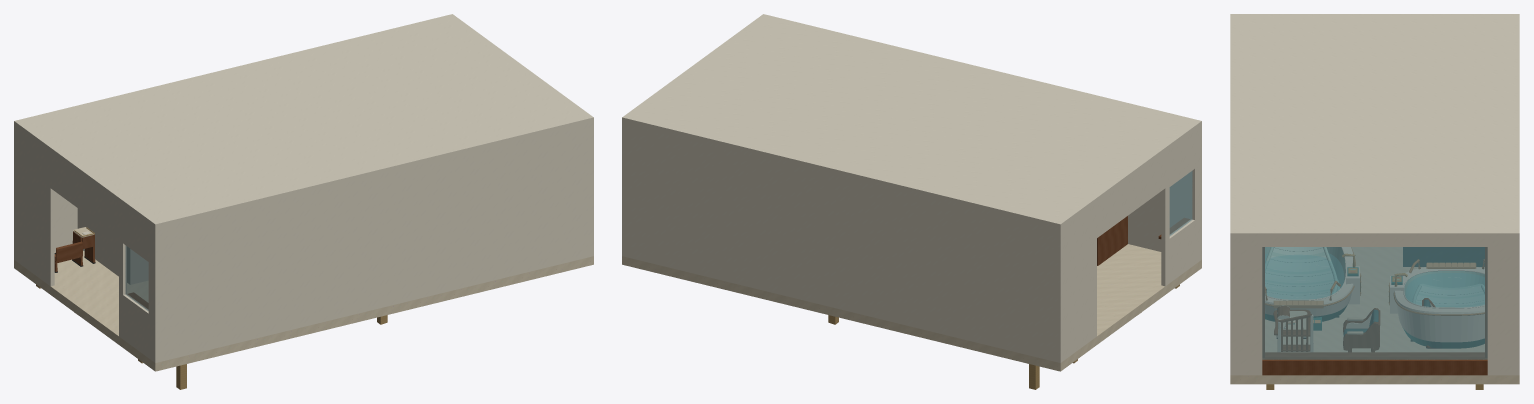
Rendered from QuietGroveBank_577_r001.glb.
The picture shows the model from 3 angles, left to right: view 1: azimuth 30°, elevation 25°; view 2: azimuth 150°, elevation 25°; view 3: azimuth 270°, elevation 25°; orthographic projection. The views are drawn at different scales.
Parts seen in each view (by area): view 1: QG577_Ceiling, QG577_NorthSide, QG577_RoomFloor, QG577_EntryShoulderSouth, QG577_EntryHeader, QG577_StreetWindowLower, QG577_WashEntrySide, QG577_SouthSide, QG577_StreetWindowUpper, QG577_ScreenedStreetGlass, QGB577_CourtSouthPier; view 2: QG577_Ceiling, QG577_SouthSide, QG577_RoomFloor, QG577_EntryShoulderSouth, QG577_NorthSide, QG577_EntryHeader, QG577_StreetWindowLower, QG577_StreetWindowUpper, QG577_ScreenedStreetGlass, QG577_EntryPrivacyDogleg; view 3: QG577_Ceiling, QGB577_PrivateCourtGlass, QG577_RoomFloor, QG577_QG577_ReservedRestSupport_02__Hollow continuous basin , QGB577_CourtNorthPier, QGB577_CourtSouthPier, QGB577_CourtSill, QG577_QG577_ReservedRestSupport_01__Contoured broad immersed, QGB577_CourtHeader, QG577_QG577_ReservedRestSupport_01__Hollow continuous basin , QG577_PositiveWetPrivacyBlade, QGB577_DeepReveal_0.34 (+7 smaller).
Part boxes in pixels (x1,y1,x2,y2): QG577_Ceiling: [14, 14, 593, 229]; QG577_NorthSide: [153, 123, 593, 362]; QG577_RoomFloor: [14, 250, 593, 371]; QG577_EntryShoulderSouth: [16, 128, 54, 286]; QG577_EntryHeader: [49, 153, 119, 238]; QG577_StreetWindowLower: [119, 292, 152, 360]; QG577_WashEntrySide: [77, 208, 133, 284]; QG577_SouthSide: [14, 127, 77, 260]; QG577_StreetWindowUpper: [119, 203, 152, 264]; QG577_ScreenedStreetGlass: [125, 245, 148, 310]; QGB577_CourtSouthPier: [585, 123, 593, 257]; QG577_Ceiling: [622, 14, 1201, 229]; QG577_SouthSide: [622, 123, 1062, 362]; QG577_RoomFloor: [622, 244, 1201, 371]; QG577_EntryShoulderSouth: [1063, 203, 1096, 360]; QG577_NorthSide: [1128, 127, 1201, 260]; QG577_EntryHeader: [1096, 154, 1165, 238]; QG577_StreetWindowLower: [1161, 217, 1199, 286]; QG577_StreetWindowUpper: [1163, 128, 1199, 190]; QG577_ScreenedStreetGlass: [1169, 171, 1192, 235]; QG577_EntryPrivacyDogleg: [1097, 216, 1127, 265]; QG577_Ceiling: [1230, 14, 1519, 238]; QGB577_PrivateCourtGlass: [1262, 247, 1487, 359]; QG577_RoomFloor: [1230, 247, 1519, 384]; QG577_QG577_ReservedRestSupport_02__Hollow continuous basin : [1395, 267, 1484, 348]; QGB577_CourtNorthPier: [1487, 239, 1519, 375]; QGB577_CourtSouthPier: [1230, 239, 1262, 375]; QGB577_CourtSill: [1262, 358, 1487, 375]; QG577_QG577_ReservedRestSupport_01__Contoured broad immersed: [1265, 247, 1337, 299]; QGB577_CourtHeader: [1262, 239, 1487, 246]; QG577_QG577_ReservedRestSupport_01__Hollow continuous basin : [1265, 247, 1353, 321]; QG577_PositiveWetPrivacyBlade: [1403, 247, 1484, 266]; QGB577_DeepReveal_0.34: [1265, 352, 1484, 357].
Bounding box in the file's own units: 12.9 × 5.31 × 7.2.
Materials: 79 (49 with a texture image).
